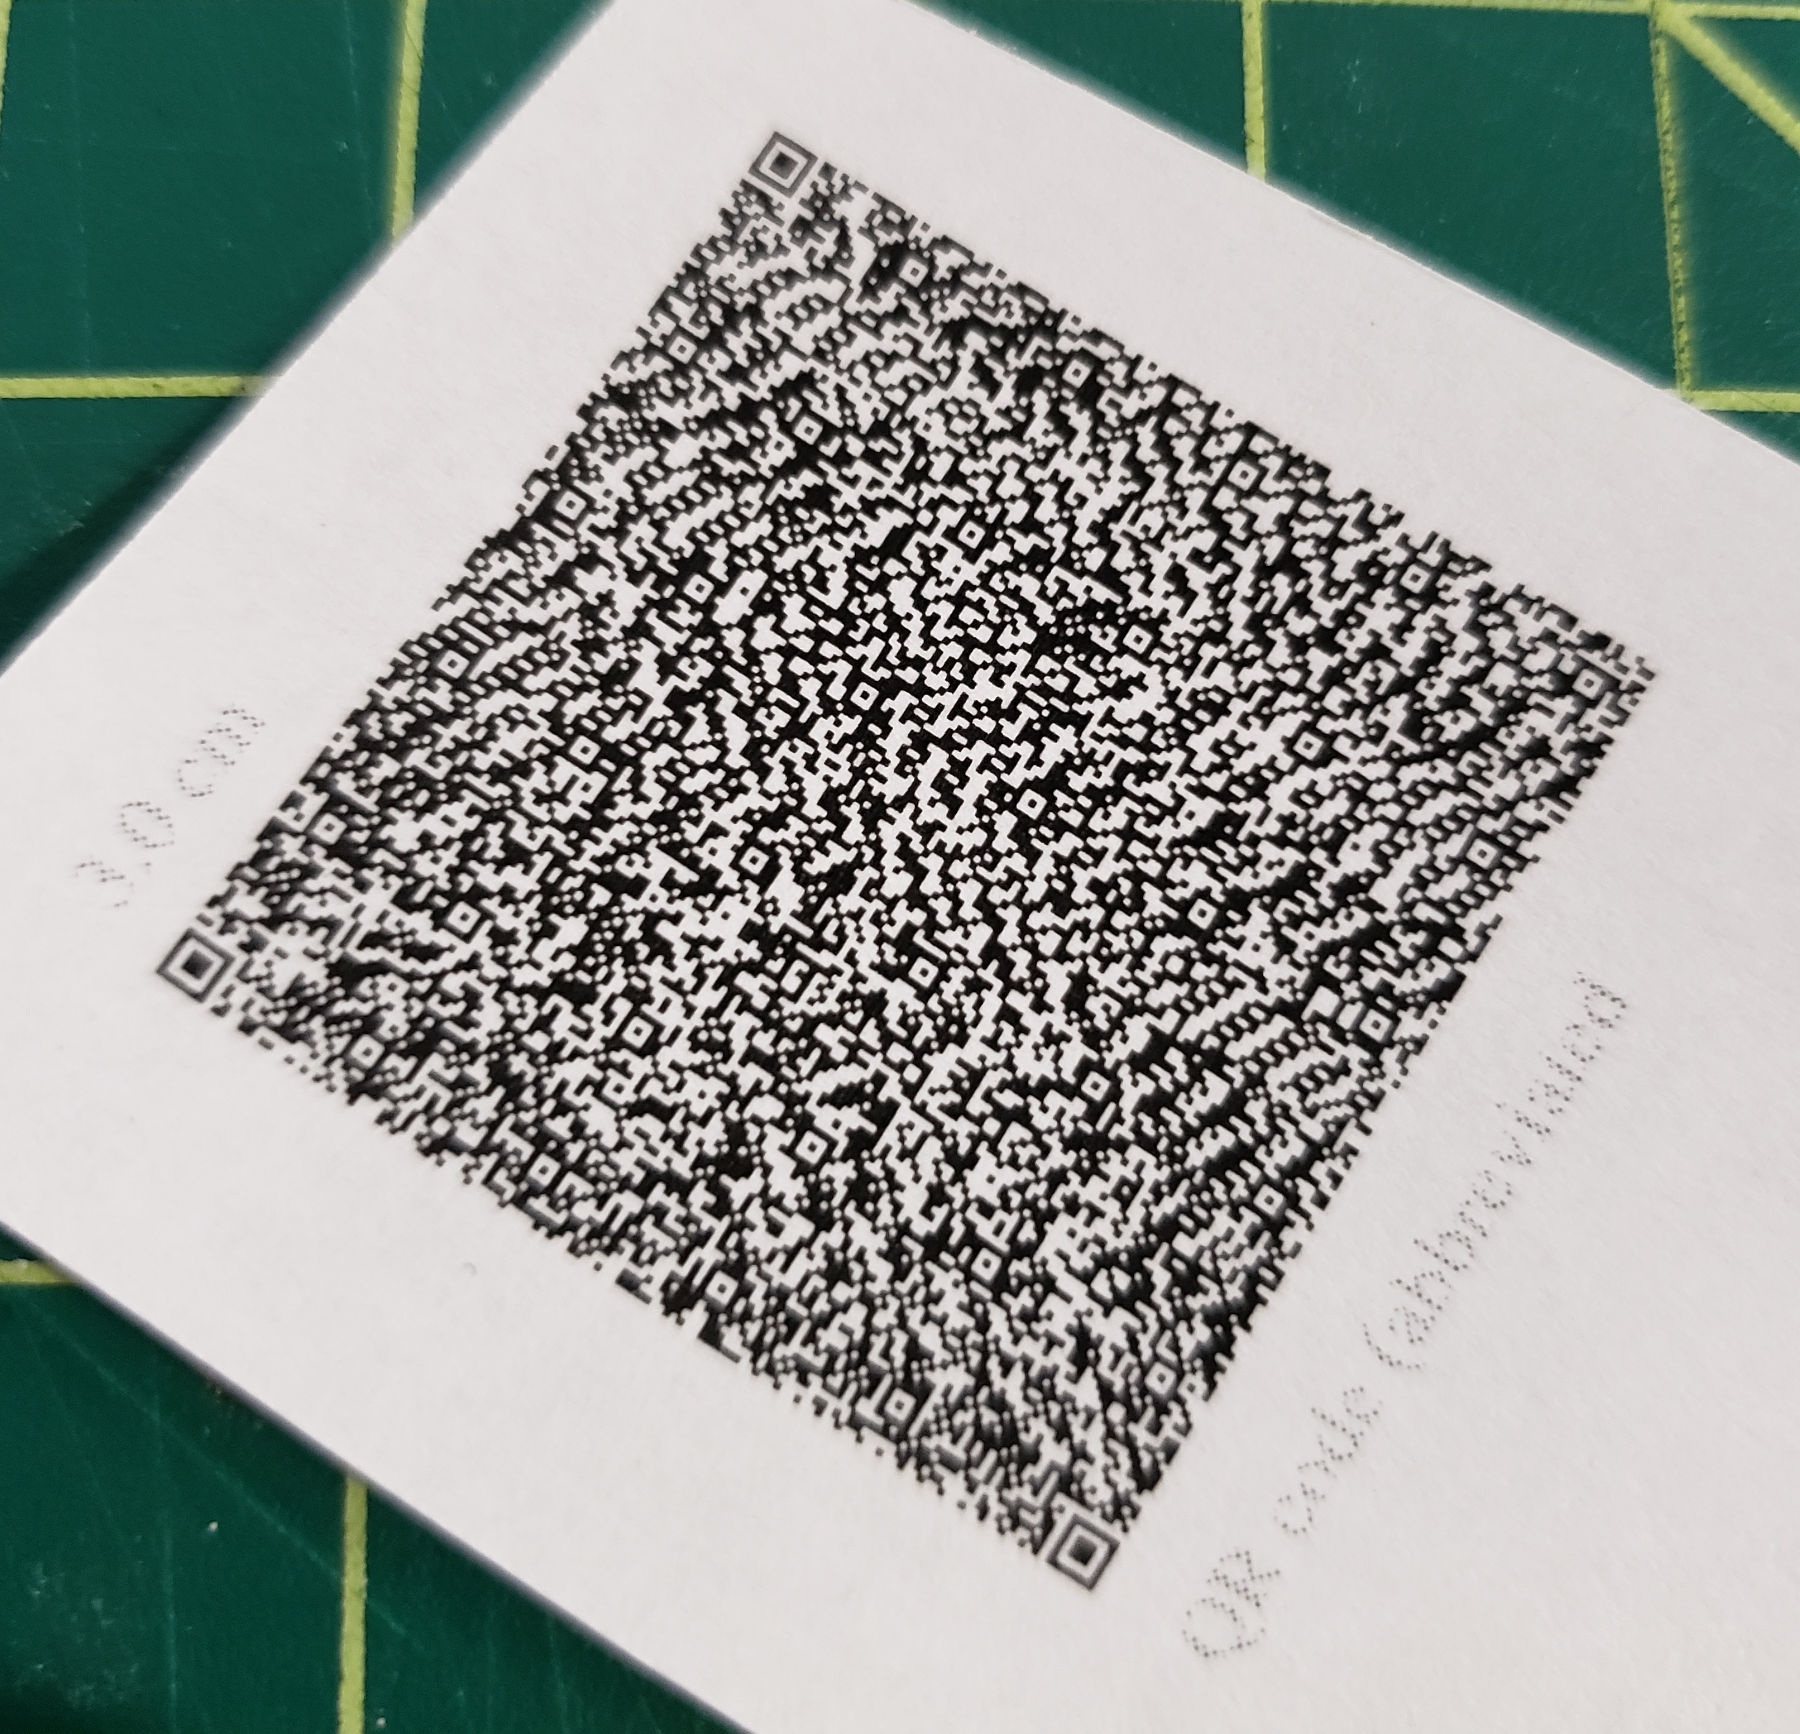QR_CODE: (117, 84, 1679, 1618)
